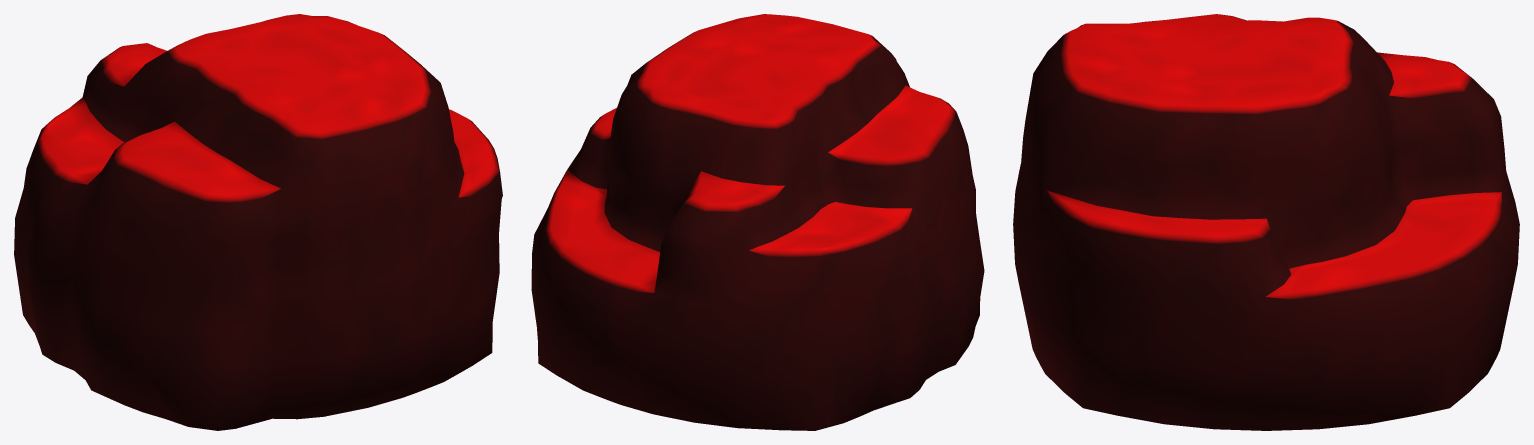
Rendered from geology-landforms-icehilllayered_v1.fbx.
3 renders of one model, left to right at view 1: azimuth 30°, elevation 25°; view 2: azimuth 150°, elevation 25°; view 3: azimuth 270°, elevation 25°, orthographic. The views are drawn at different scales.
Visible parts, largest first — view 1: IceHillLayered_v1; view 2: IceHillLayered_v1; view 3: IceHillLayered_v1.
Part boxes in pixels (left/top/right/bottom): IceHillLayered_v1: left=14, top=14, right=502, bottom=430; IceHillLayered_v1: left=531, top=14, right=984, bottom=430; IceHillLayered_v1: left=1013, top=14, right=1519, bottom=430.
Bounding box in the file's own units: 46.04 × 28.84 × 46.46.
